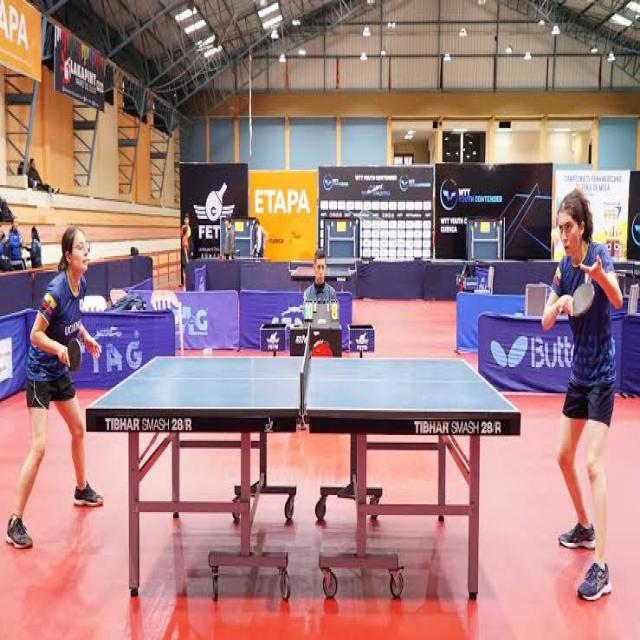TT Net: (295, 315, 313, 430)
TT Racket: (566, 275, 601, 326), (63, 331, 85, 382)
TT Table: (88, 355, 518, 416)
